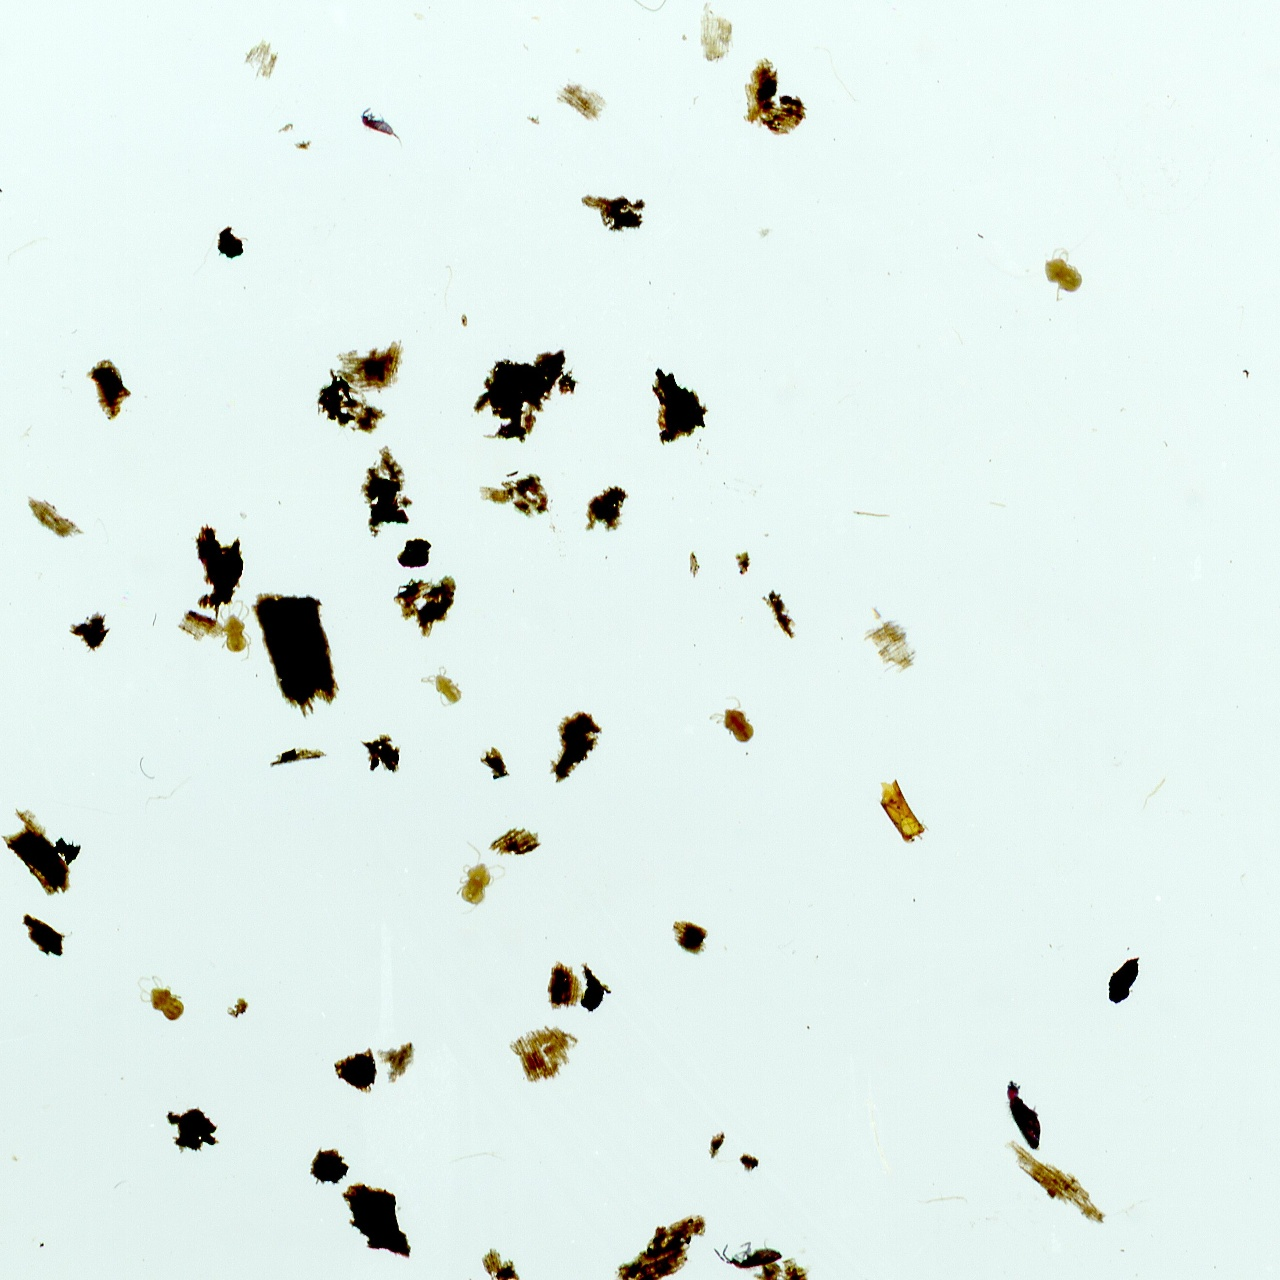arthropod: (451, 839, 511, 917), (1003, 1071, 1048, 1159), (212, 594, 254, 665), (709, 1233, 785, 1272), (1040, 245, 1088, 304), (708, 694, 761, 747), (135, 974, 189, 1022), (358, 105, 406, 151), (417, 661, 463, 708)
